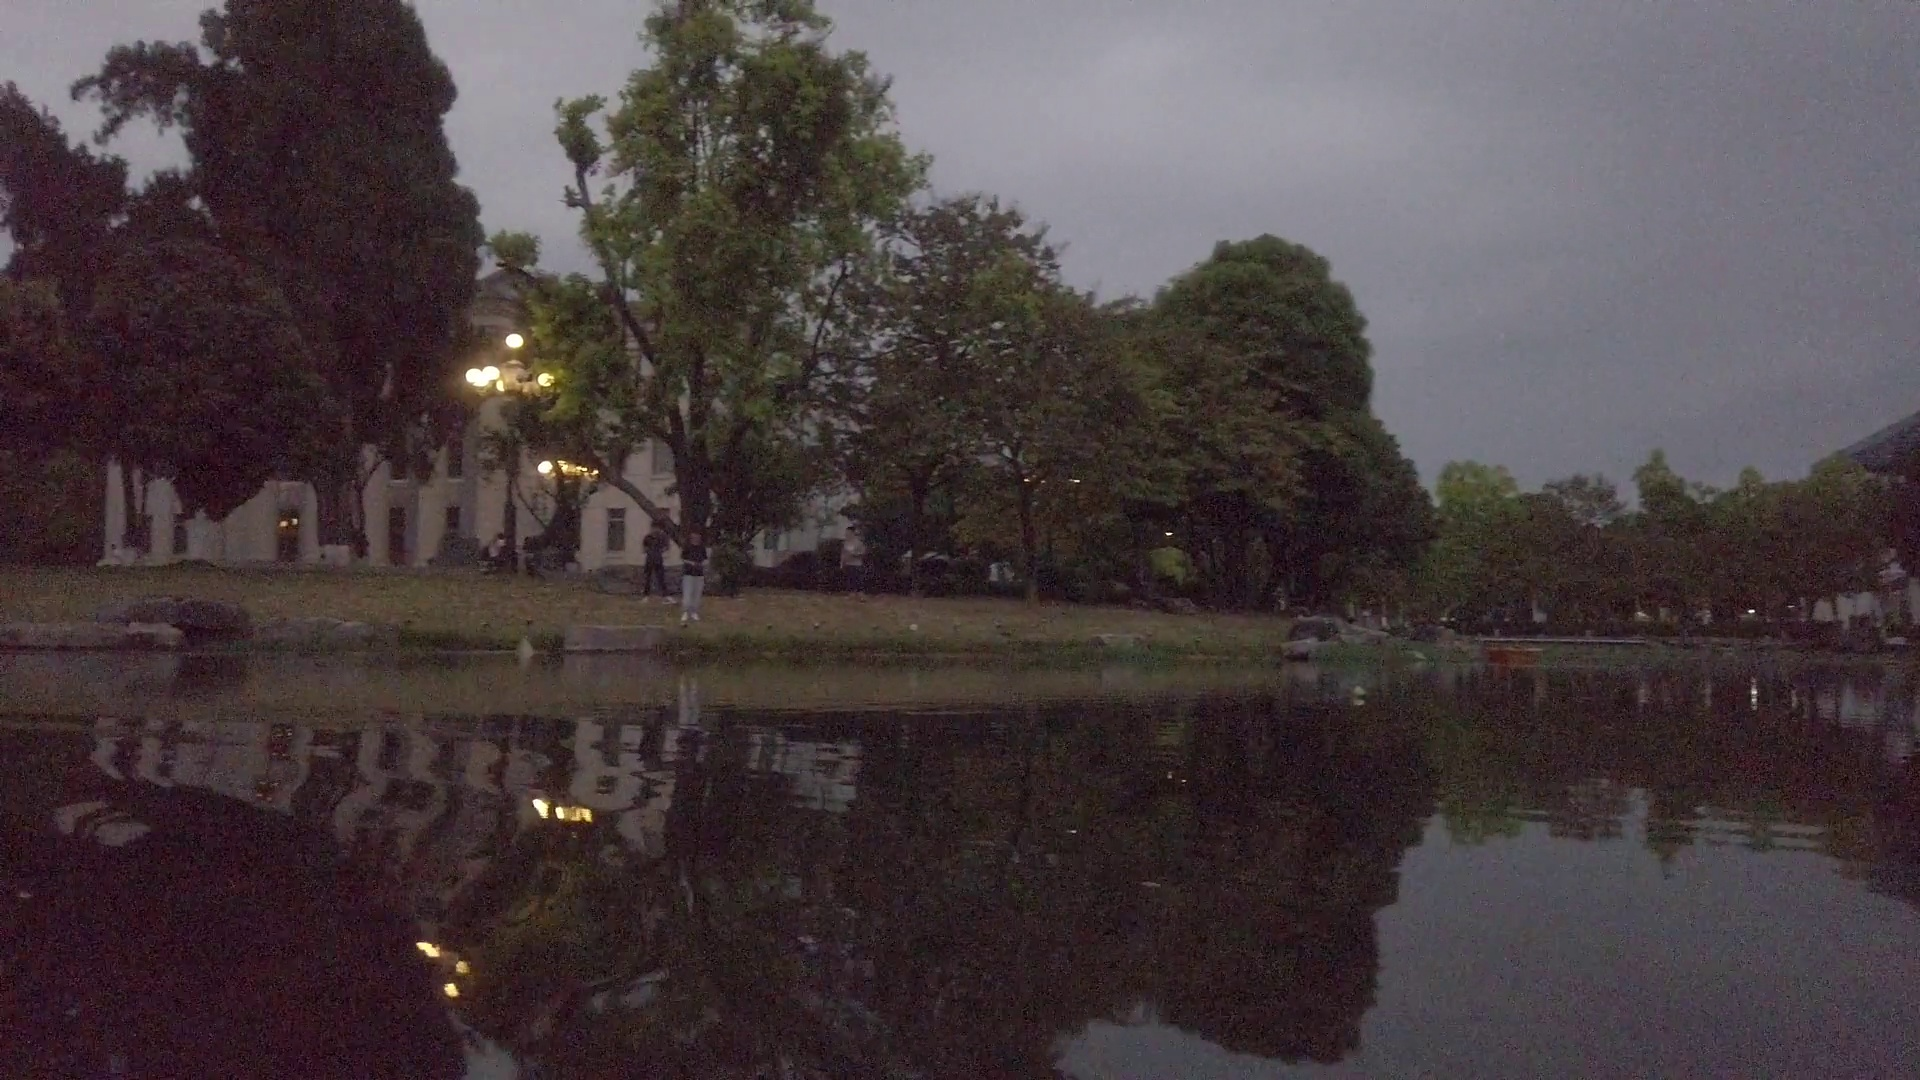bottle: (1350, 683, 1367, 700)
